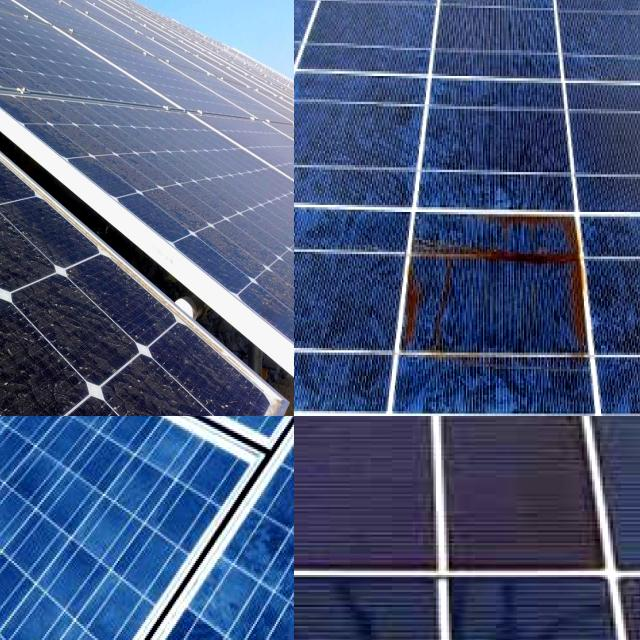crack: (0, 416, 294, 640), (0, 416, 185, 640), (0, 416, 292, 551), (0, 416, 127, 576), (0, 416, 147, 493)
dust: (38, 284, 124, 371), (0, 79, 84, 157), (0, 159, 101, 219), (0, 252, 54, 343), (145, 367, 235, 416), (0, 317, 42, 416), (0, 274, 33, 379), (0, 369, 64, 416), (0, 234, 34, 313), (0, 204, 38, 274), (0, 99, 25, 152)
shadow: (393, 192, 602, 376), (294, 569, 624, 640), (294, 416, 425, 546), (433, 416, 560, 519)
